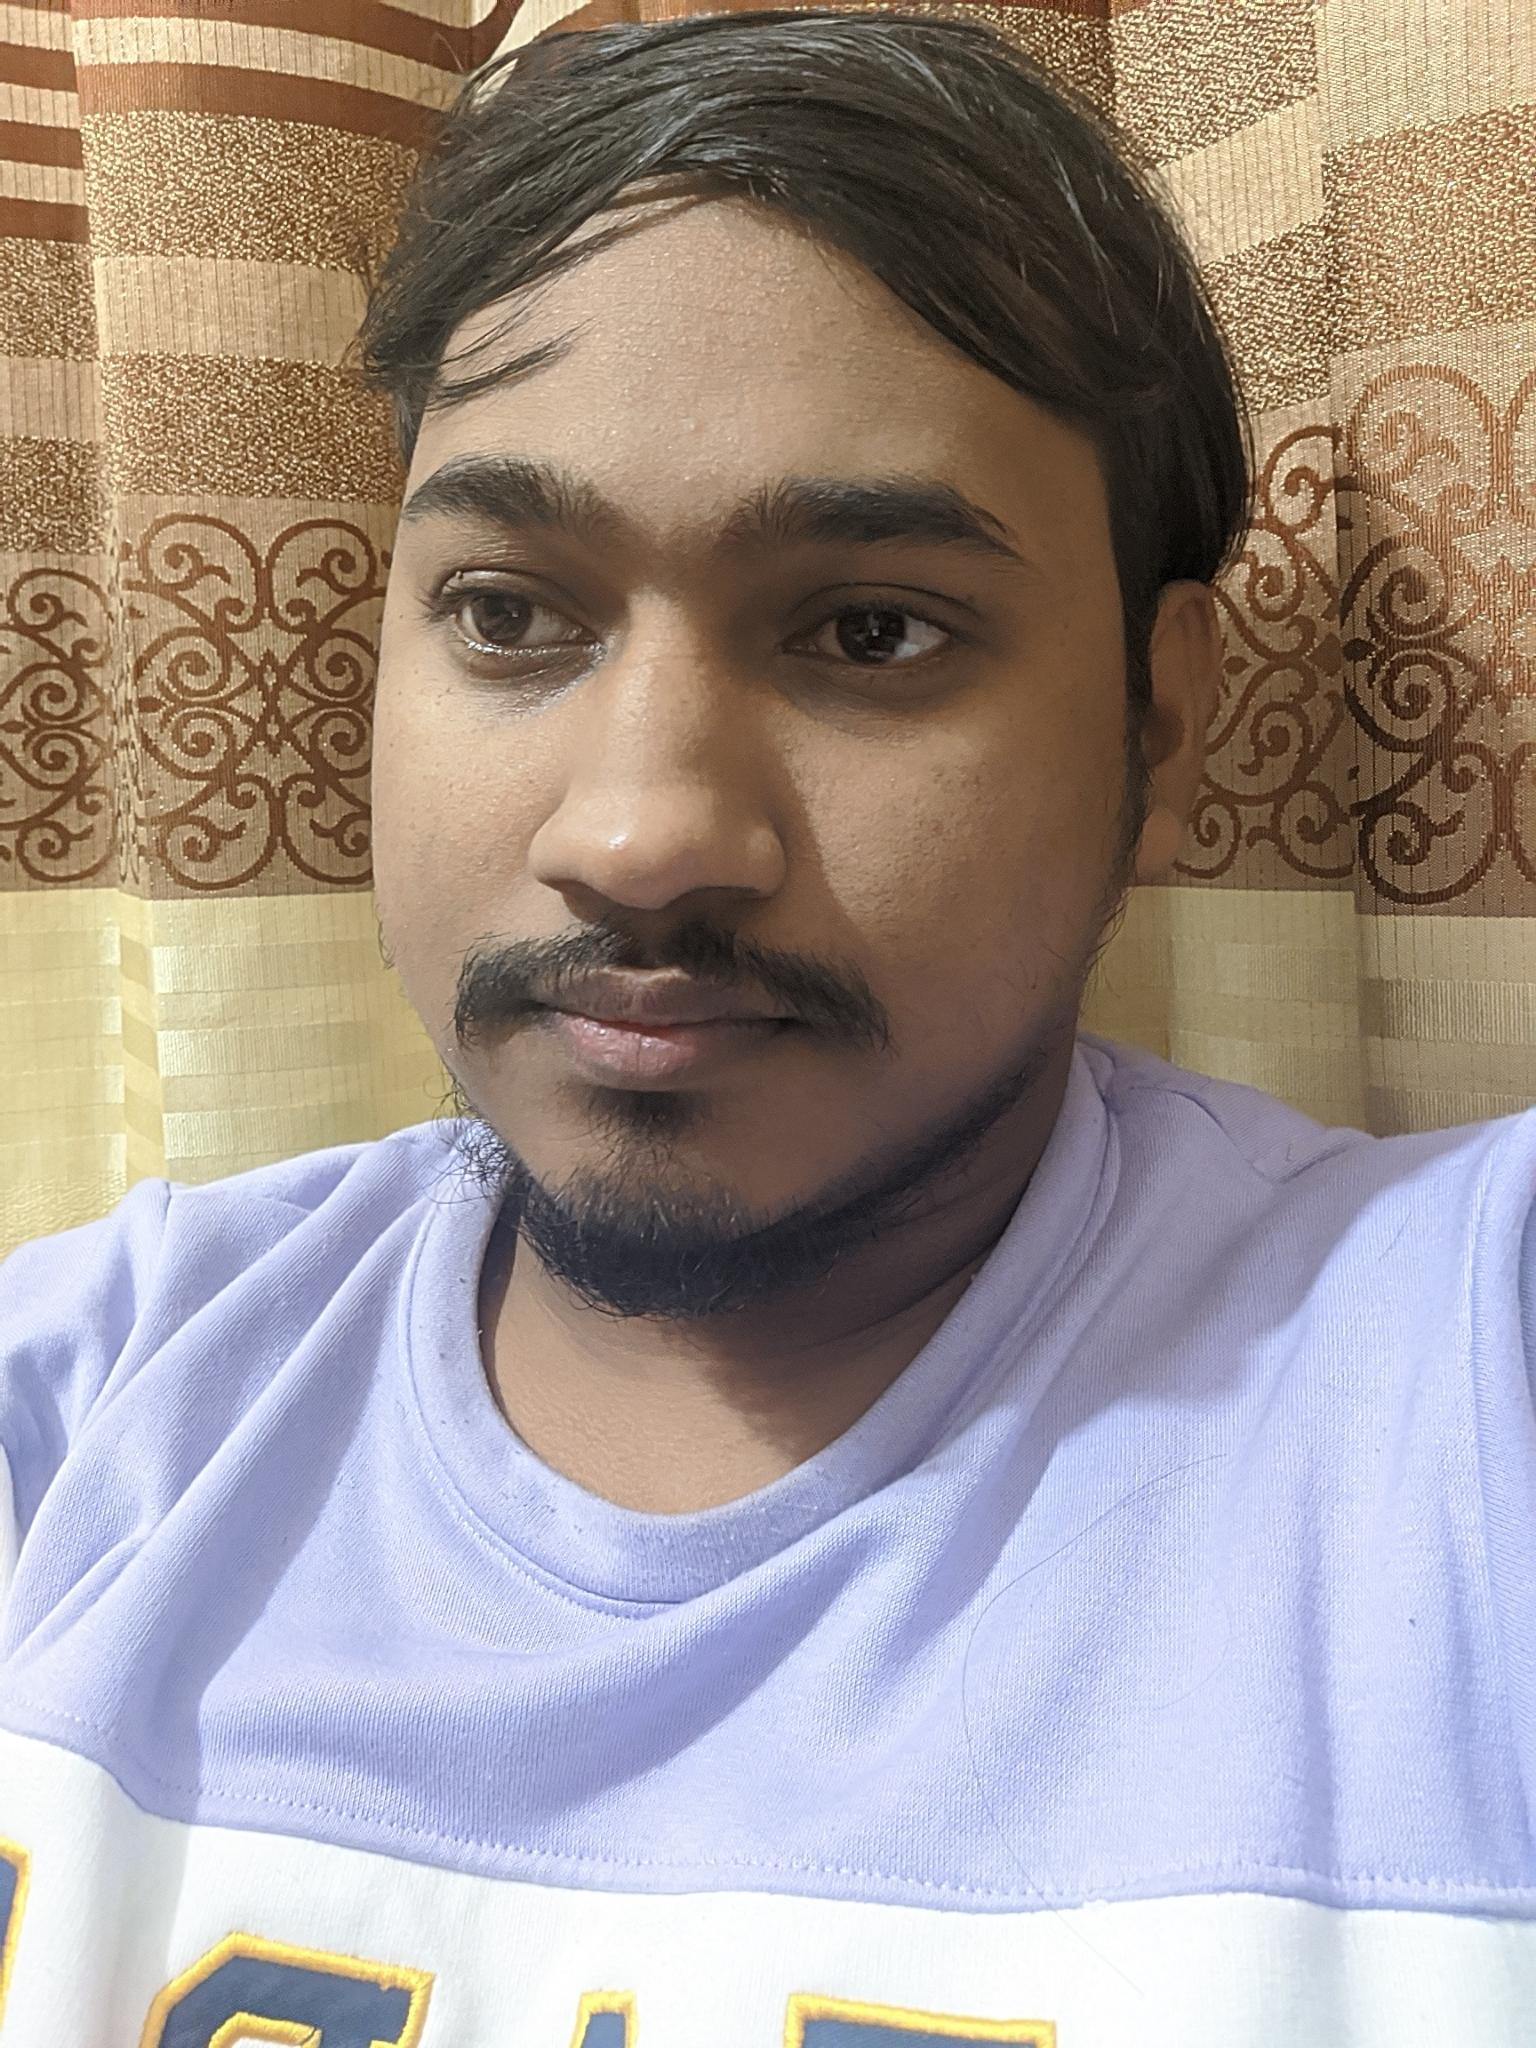Neutral: (344, 318, 1108, 1287)
